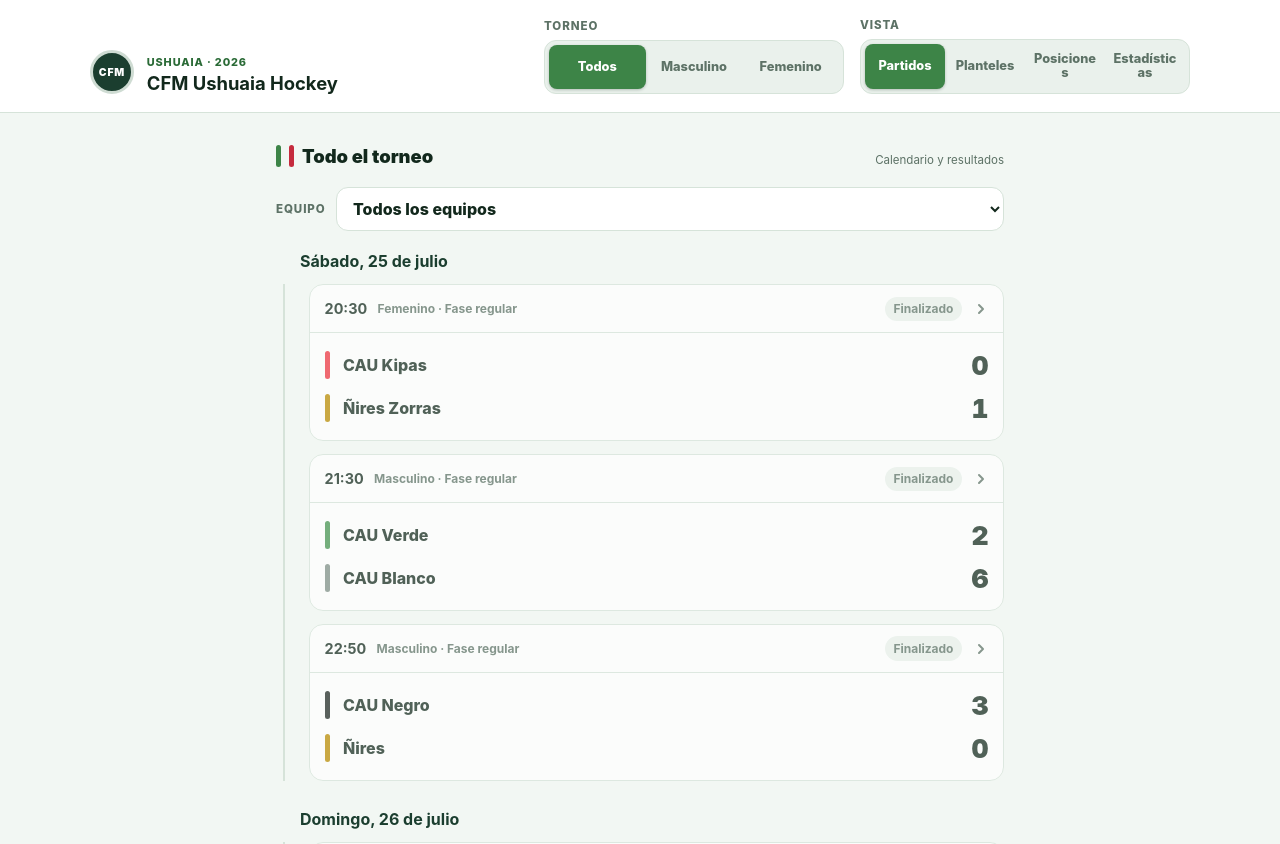
App › when the whole tournament is selected › should show a standings table per tournament
Click the button "Posiciones" at {"x": 1065, "y": 66}, box left=1025, top=44, right=1105, bottom=89
(page scrolled)
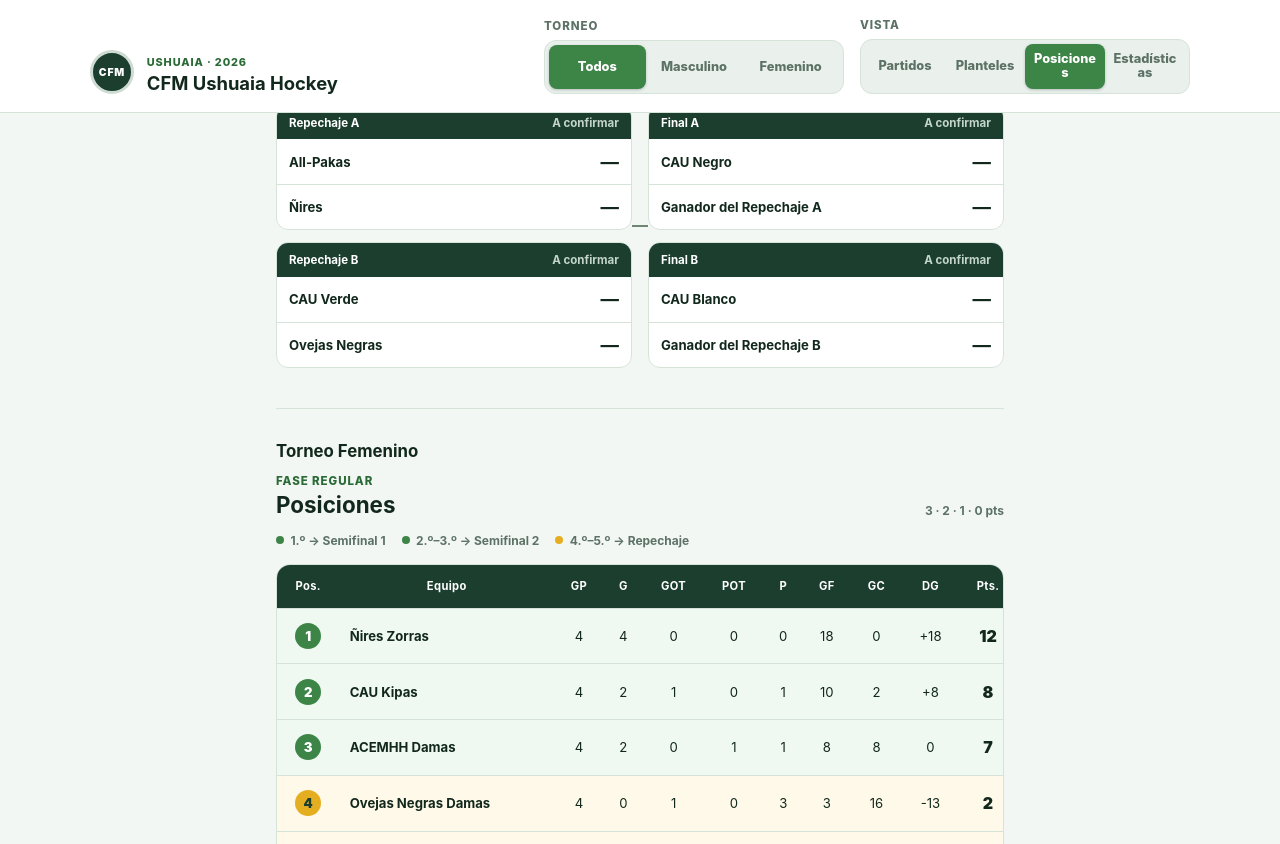
Now the heading "Torneo Femenino" is shown, box left=276, top=441, right=418, bottom=461
